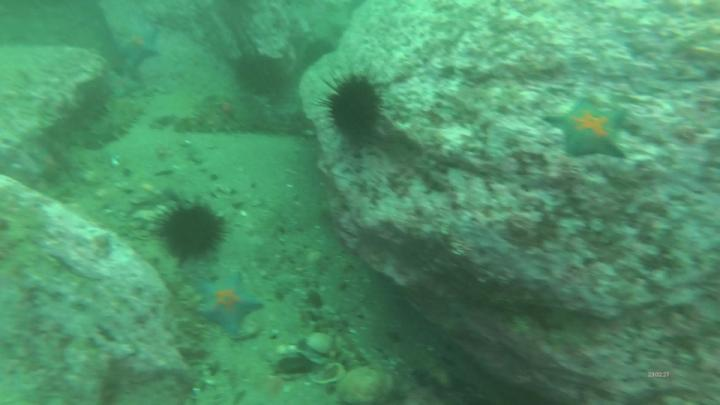echinus: (326, 80, 382, 141), (163, 208, 221, 255), (236, 56, 273, 91), (305, 37, 338, 63)
holothurian: (85, 101, 141, 150), (176, 118, 242, 136)
starfish: (548, 99, 627, 157), (195, 276, 264, 334), (111, 26, 162, 71)
